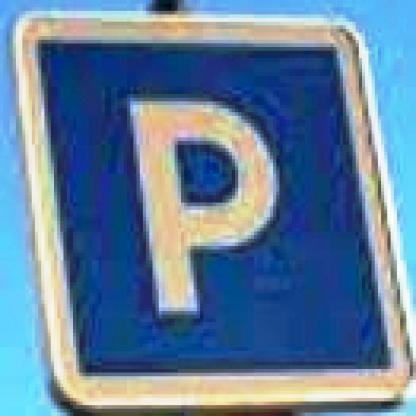Parking: (17, 16, 407, 408)
